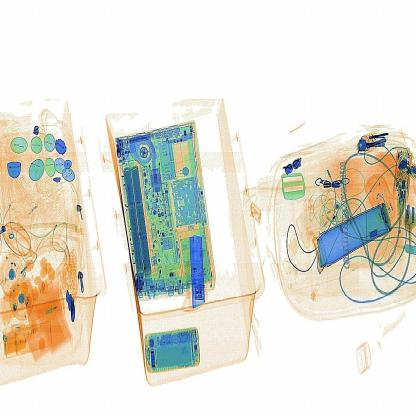pliers: (179, 223, 221, 319)
